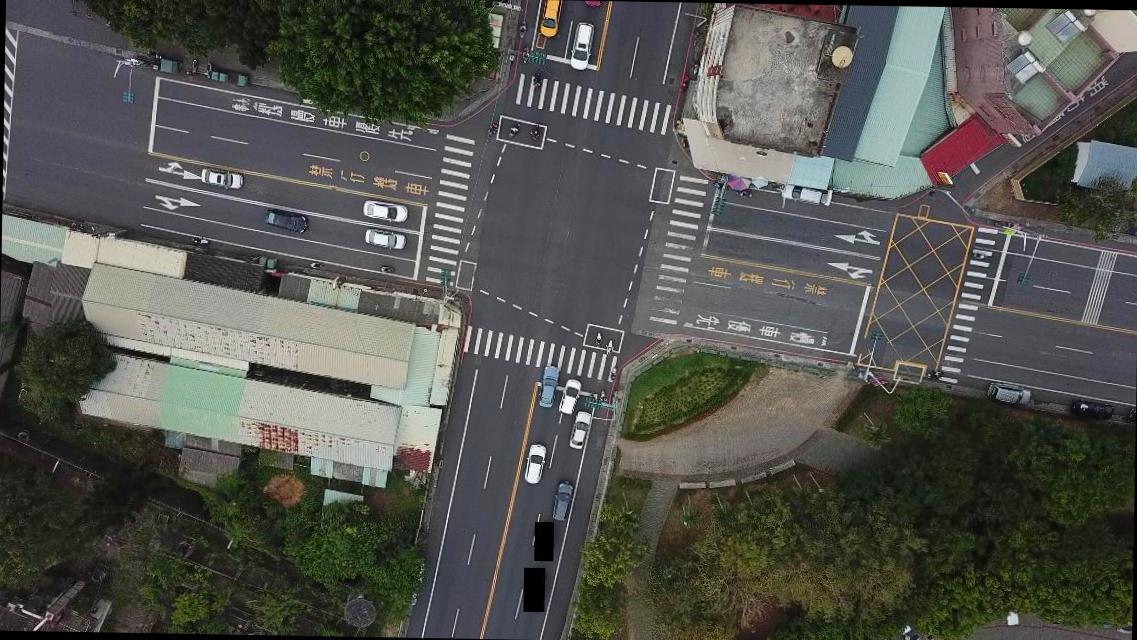vehicle: (569, 20, 596, 71), (361, 198, 410, 225), (781, 182, 834, 206), (985, 380, 1033, 405), (266, 206, 308, 234), (536, 362, 560, 408), (364, 226, 408, 250), (536, 0, 564, 37), (200, 167, 244, 190), (523, 444, 548, 484), (552, 480, 576, 521), (568, 409, 592, 448), (1072, 398, 1114, 420), (557, 379, 582, 414)
